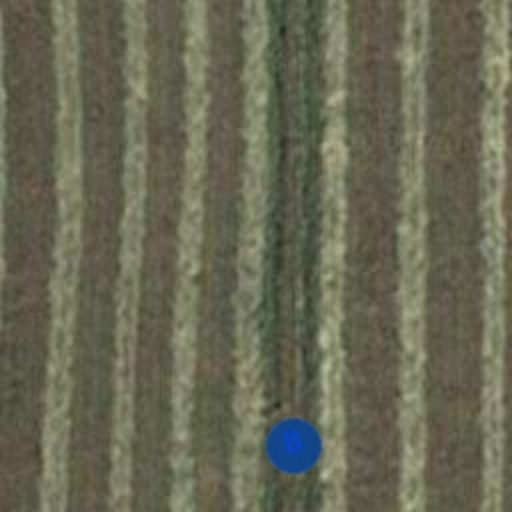circle: (258, 410, 330, 482)
